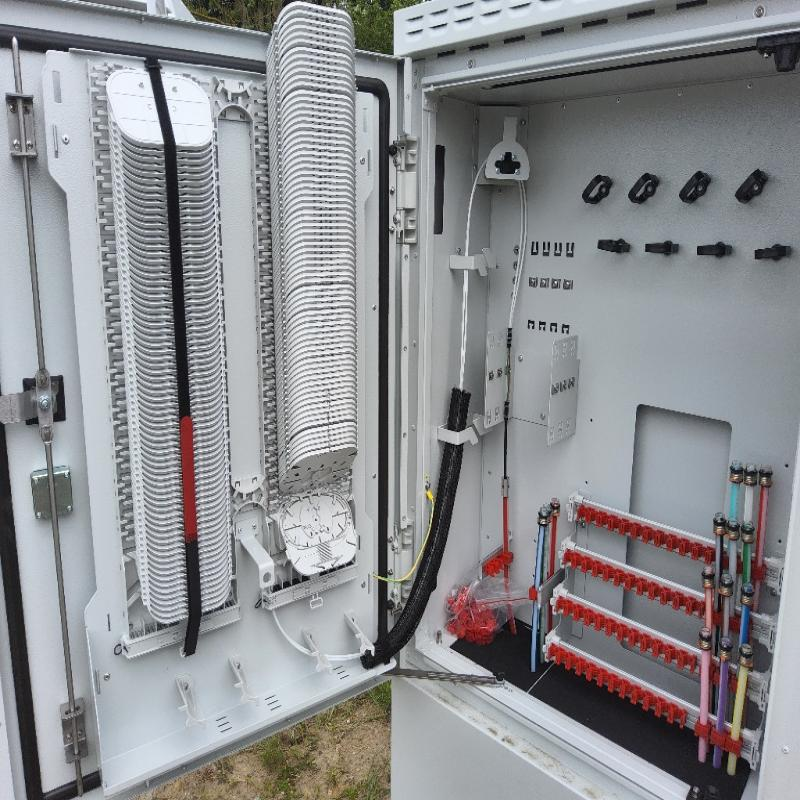Spleiskassetten: (103, 52, 237, 646), (253, 3, 366, 584)
